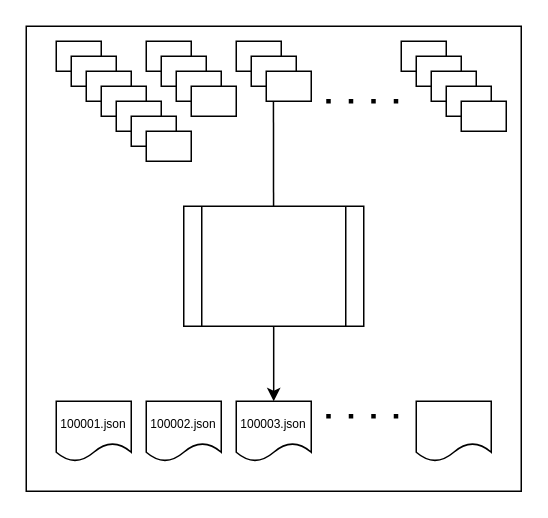
Some shapes in this 548 by 518 pixel diagram are drawn without their labels. The centre of each missing label's shape, as x and y in pixels:
"700875.json" belongs at (x=453, y=430).
"Every sequence is processed by MD image by image" belongs at (x=273, y=265).
